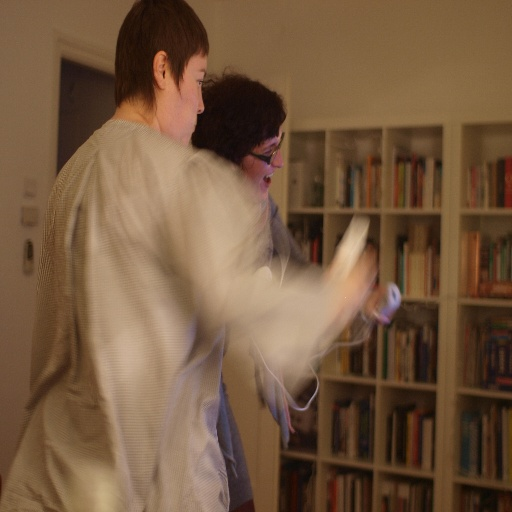hand: (301, 214, 383, 338), (365, 288, 392, 326)
